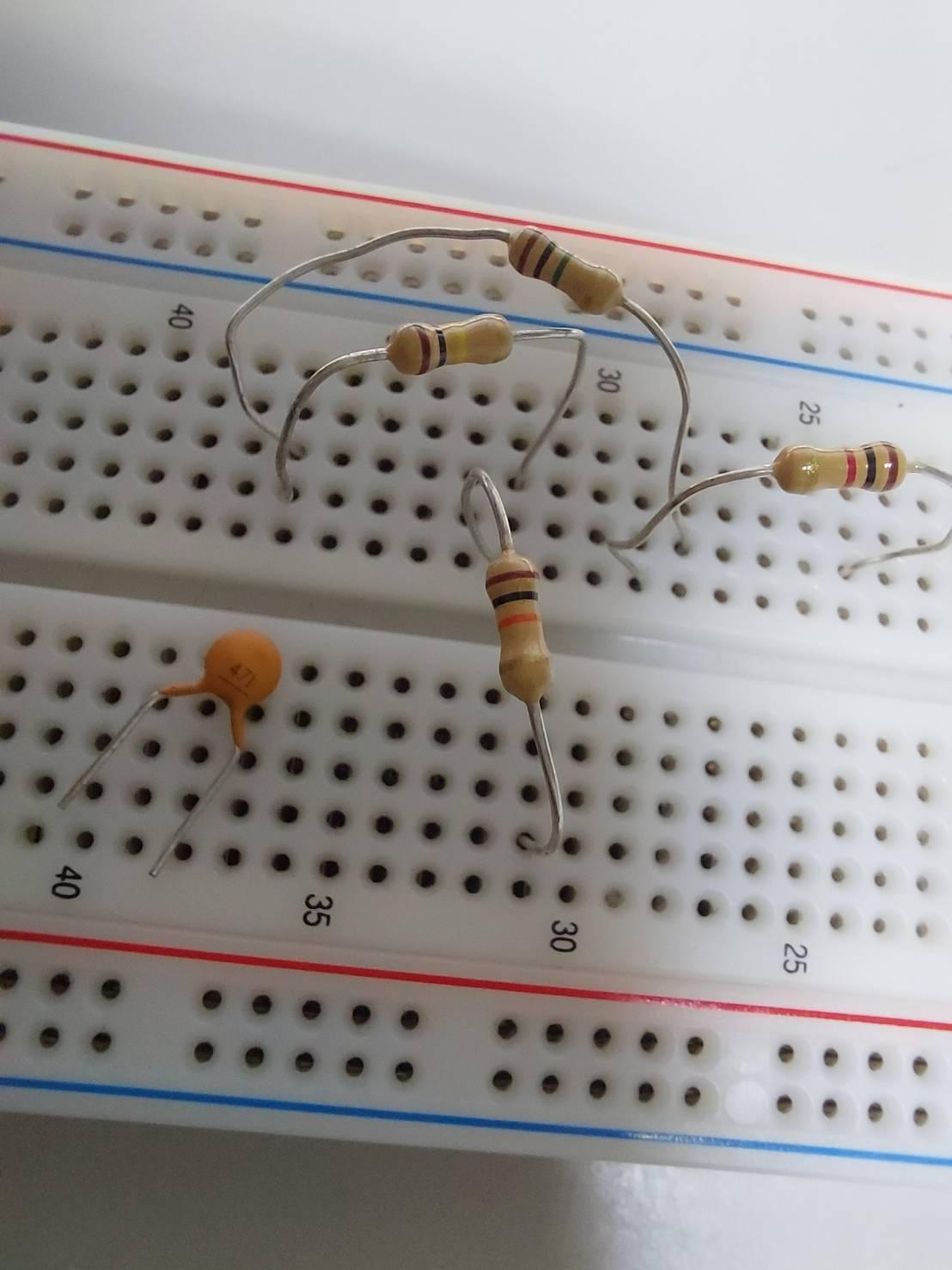resistor: (498, 221, 631, 313), (481, 553, 561, 699), (770, 435, 917, 501), (374, 313, 524, 375)
